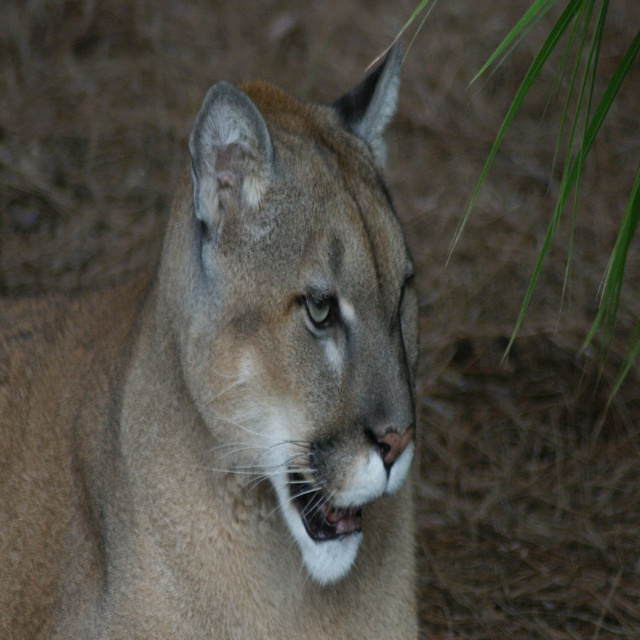Lion: (0, 45, 417, 639)
